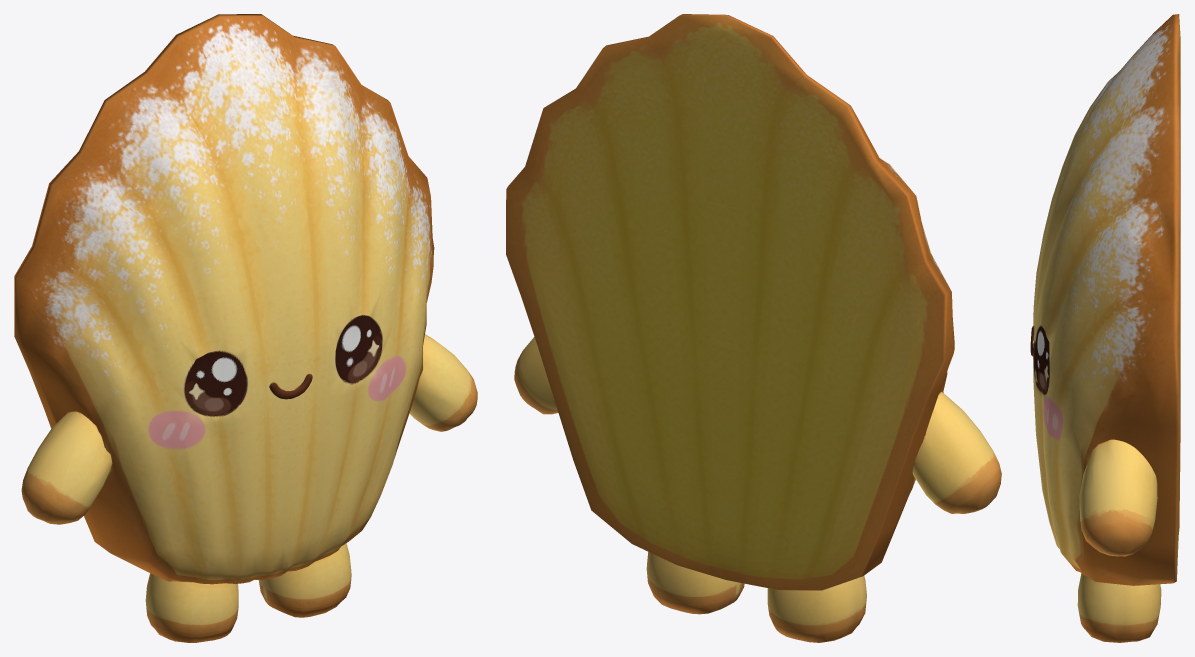
File: source.fbx
3 renders of one model, left to right at view 1: azimuth 30°, elevation 25°; view 2: azimuth 150°, elevation 25°; view 3: azimuth 270°, elevation 25°, orthographic. The views are drawn at different scales.
Visible parts, largest first — view 1: Mesh_0; view 2: Mesh_0; view 3: Mesh_0.
Part boxes in pixels (x1,y1,x2,y2): Mesh_0: (14,14,477,642); Mesh_0: (506,14,1001,642); Mesh_0: (1030,14,1180,642).
Bounding box in the file's own units: 56.29 × 70 × 16.44.
1 material, 1 textured.
